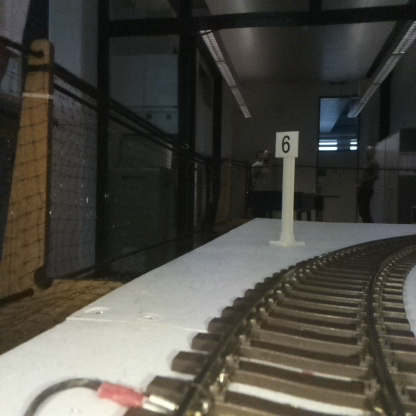white-info-6: (275, 130, 298, 244)
